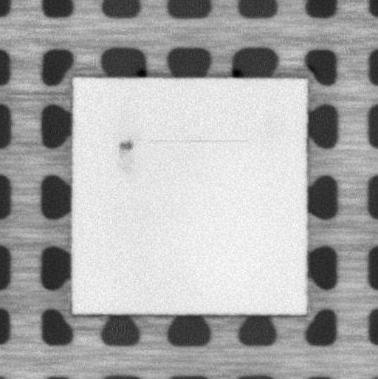DIE_CRACK: (143, 134, 250, 146)
